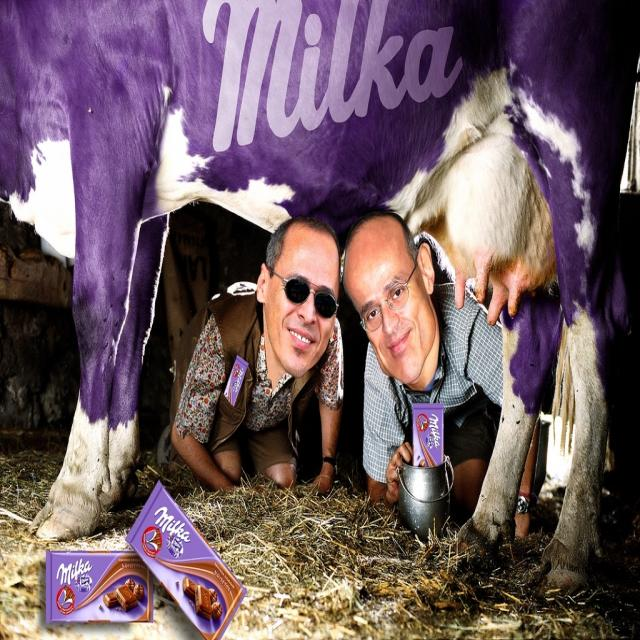milka: (198, 2, 463, 159), (156, 503, 194, 560), (55, 554, 95, 594), (417, 411, 444, 452)
